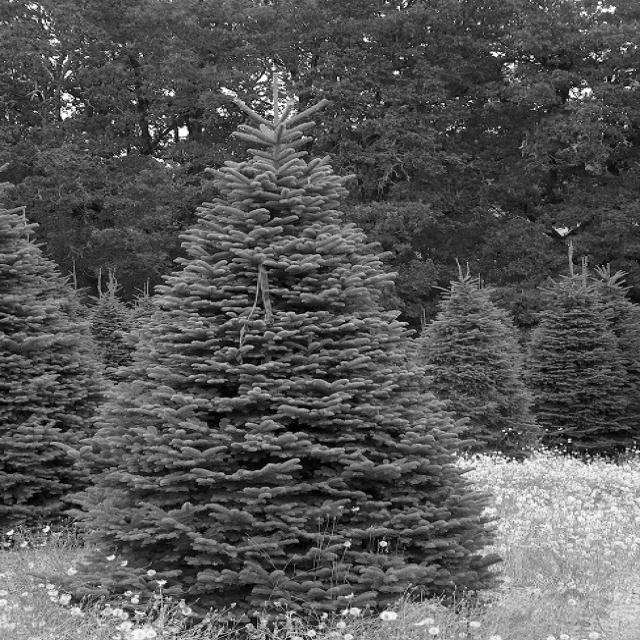Abies: (52, 71, 509, 627)
